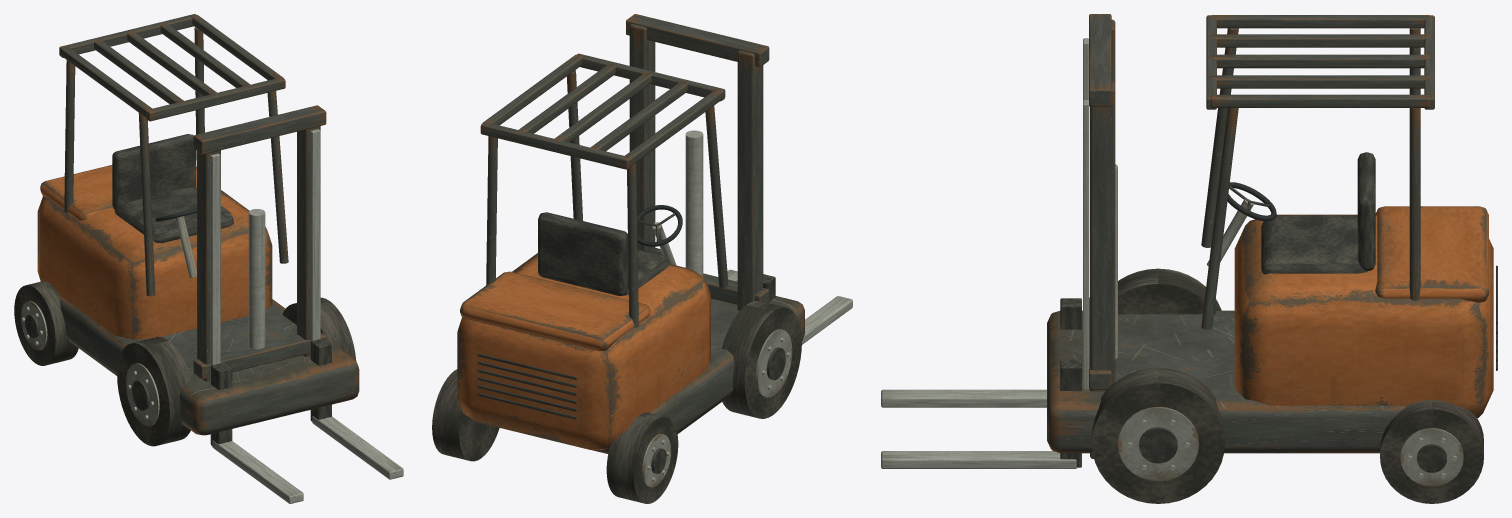
The model's file is 08_Logistics_Forklift.glb.
3 renders of one model, left to right at view 1: azimuth 30°, elevation 25°; view 2: azimuth 150°, elevation 25°; view 3: azimuth 270°, elevation 25°, orthographic. The views are drawn at different scales.
Parts seen in each view (by area): view 1: Cast counterweight / engine body, Side chassis, Solid forklift tyre, Overhead guard slats, Overhead guard post, Seat back, Double lifting mast, Double lifting mast.001, Carriage crossbar.001, Seat base, Lift ram, Rear service bonnet (+12 smaller); view 2: Cast counterweight / engine body, Solid forklift tyre, Rear service bonnet, Overhead guard slats, Double lifting mast, Seat back, Overhead guard post, Side chassis, Double lifting mast.001, Carriage crossbar.001, Lift ram, Cooling air slot (+8 smaller); view 3: Cast counterweight / engine body, Side chassis, Solid forklift tyre, Overhead guard slats, Rear service bonnet, Double lifting mast.001, Overhead guard post, Wheel disc, Seat base, Lowered fork tine.001, Lowered fork tine, Seat back (+8 smaller).
Boxes of the visible parts, x1,y1,x2,y2 form: Cast counterweight / engine body: (37,187,272,339); Side chassis: (59,296,359,435); Solid forklift tyre: (14,281,356,446); Overhead guard slats: (60,15,283,118); Overhead guard post: (64,27,288,296); Seat back: (112,134,195,209); Double lifting mast: (197,150,220,434); Double lifting mast.001: (297,126,320,410); Carriage crossbar.001: (193,105,326,154); Seat base: (114,187,233,243); Lift ram: (248,209,265,366); Rear service bonnet: (40,165,196,220); Cast counterweight / engine body: (457,253,710,449); Solid forklift tyre: (432,301,801,503); Rear service bonnet: (460,271,650,351); Overhead guard slats: (482,54,723,166); Double lifting mast: (737,50,763,310); Seat back: (538,212,628,295); Overhead guard post: (486,70,728,327); Side chassis: (592,296,804,453); Double lifting mast.001: (629,24,655,252); Carriage crossbar.001: (626,14,769,67); Lift ram: (685,130,703,276); Cooling air slot: (477,353,576,419); Cast counterweight / engine body: (1234,214,1493,418); Side chassis: (1047,310,1406,453); Solid forklift tyre: (1091,268,1483,503); Overhead guard slats: (1211,15,1430,107); Rear service bonnet: (1375,206,1488,302); Double lifting mast.001: (1090,81,1115,458); Overhead guard post: (1201,28,1420,329); Wheel disc: (1117,407,1463,486); Seat base: (1261,215,1367,274); Lowered fork tine.001: (881,451,1076,468); Lowered fork tine: (881,389,1046,407); Seat back: (1357,152,1375,271).
Bounding box in the file's own units: 1.17 × 1.8 × 2.55.
7 materials, 6 textured.
